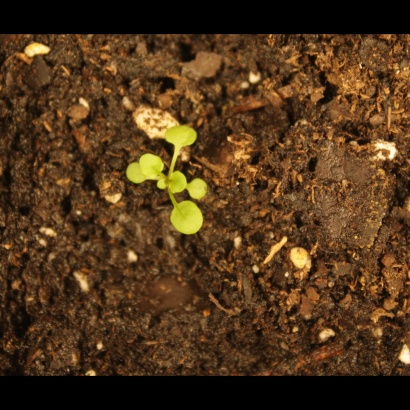leaf: (166, 200, 207, 237), (162, 120, 200, 152), (136, 152, 163, 182), (124, 161, 150, 186), (164, 169, 187, 196), (187, 177, 212, 200)
